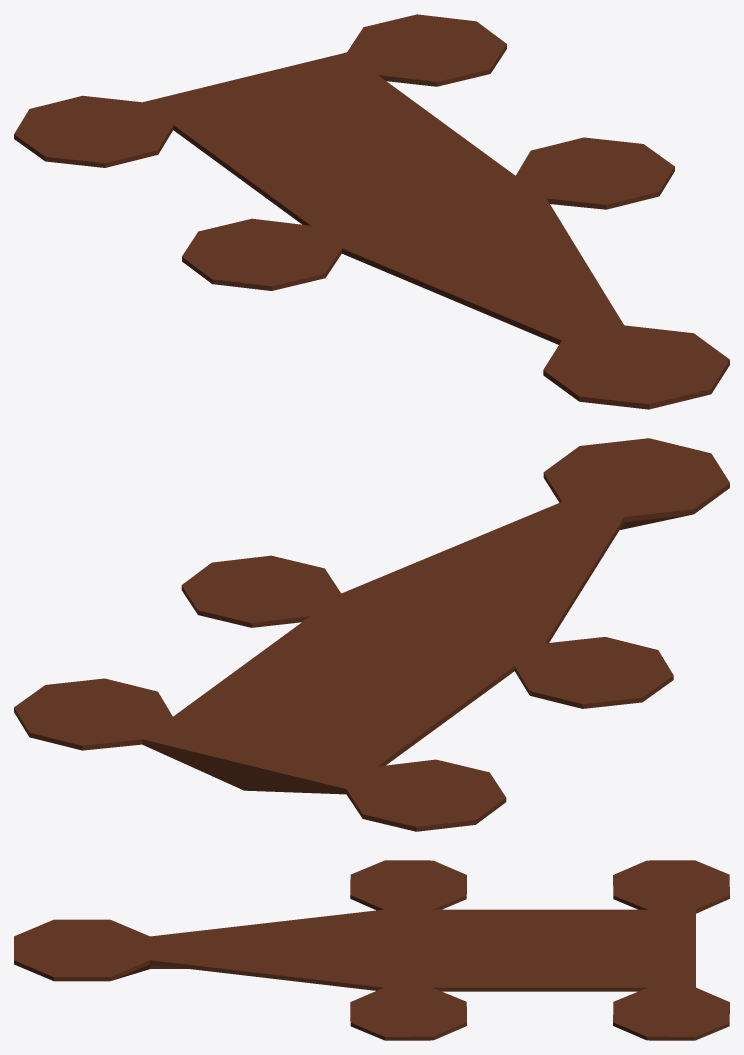
The model's file is ship tri.fbx.
The picture shows the model from 3 angles, top to bottom: view 1: azimuth 30°, elevation 25°; view 2: azimuth 150°, elevation 25°; view 3: azimuth 270°, elevation 25°; orthographic projection. The views are drawn at different scales.
Parts seen in each view (by area): view 1: base.001; view 2: base.001; view 3: base.001.
Part boxes in pixels (box(x1,y1,x2,y2)): base.001: box(14, 14, 729, 409); base.001: box(14, 438, 729, 831); base.001: box(14, 860, 729, 1040).
Size of the model in its own units: 878 by 48.13 by 1505.
